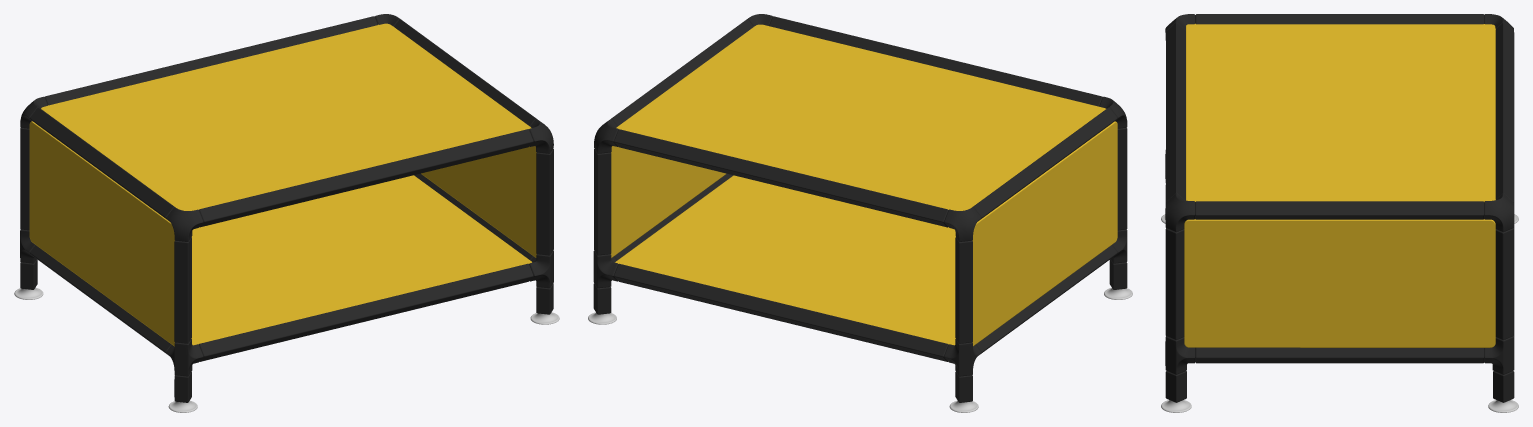
3 views of the same model, side by side, from view 1: azimuth 30°, elevation 25°; view 2: azimuth 150°, elevation 25°; view 3: azimuth 270°, elevation 25° (orthographic). The views are drawn at different scales.
Parts seen in each view (by area): view 1: 523x374x154; view 2: 523x374x154; view 3: 523x374x154.
Boxes of the visible parts, <box> form: 523x374x154: <box>14,14,559,412</box>; 523x374x154: <box>588,14,1132,412</box>; 523x374x154: <box>1161,14,1518,412</box>.
Size of the model in its own units: 0.6129 by 0.2933 by 0.4632.
